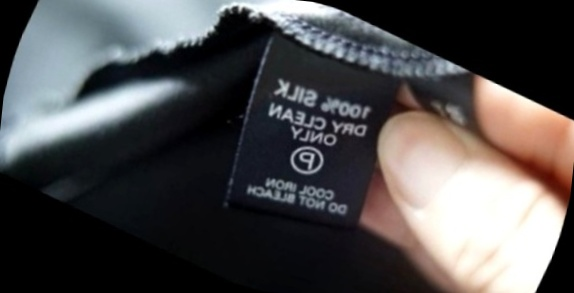dry_clean_any_solvent_except_trichloroethylene: (279, 132, 334, 186)
